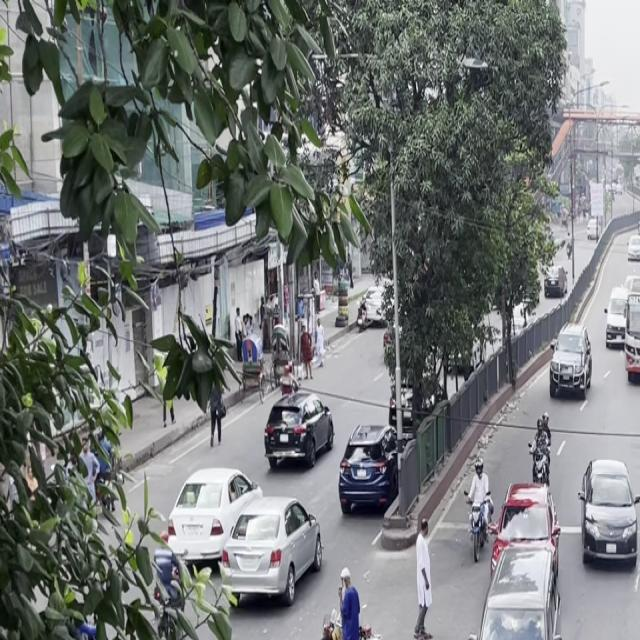bicycle: (305, 568, 397, 640)
bus: (622, 274, 640, 390)
car: (213, 481, 329, 619), (462, 515, 568, 640), (575, 452, 640, 579), (260, 387, 339, 477), (332, 418, 401, 518), (548, 324, 594, 404), (600, 288, 629, 352)
motorbike: (462, 466, 494, 565), (527, 408, 556, 489)
